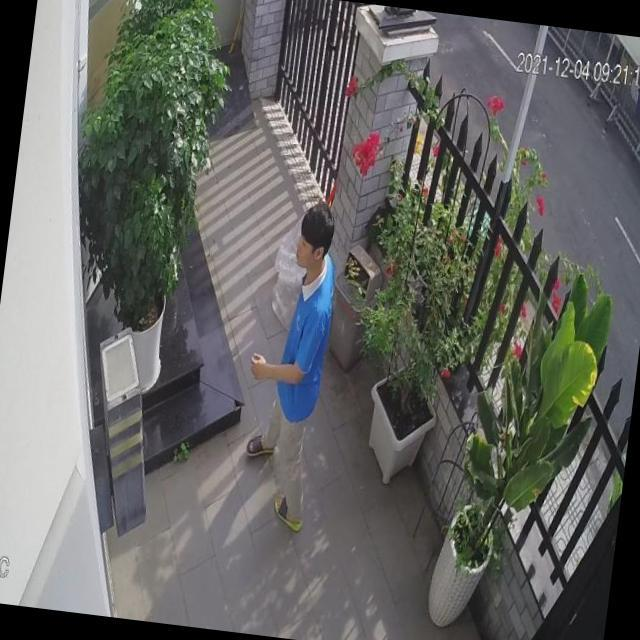person: (230, 196, 344, 534)
